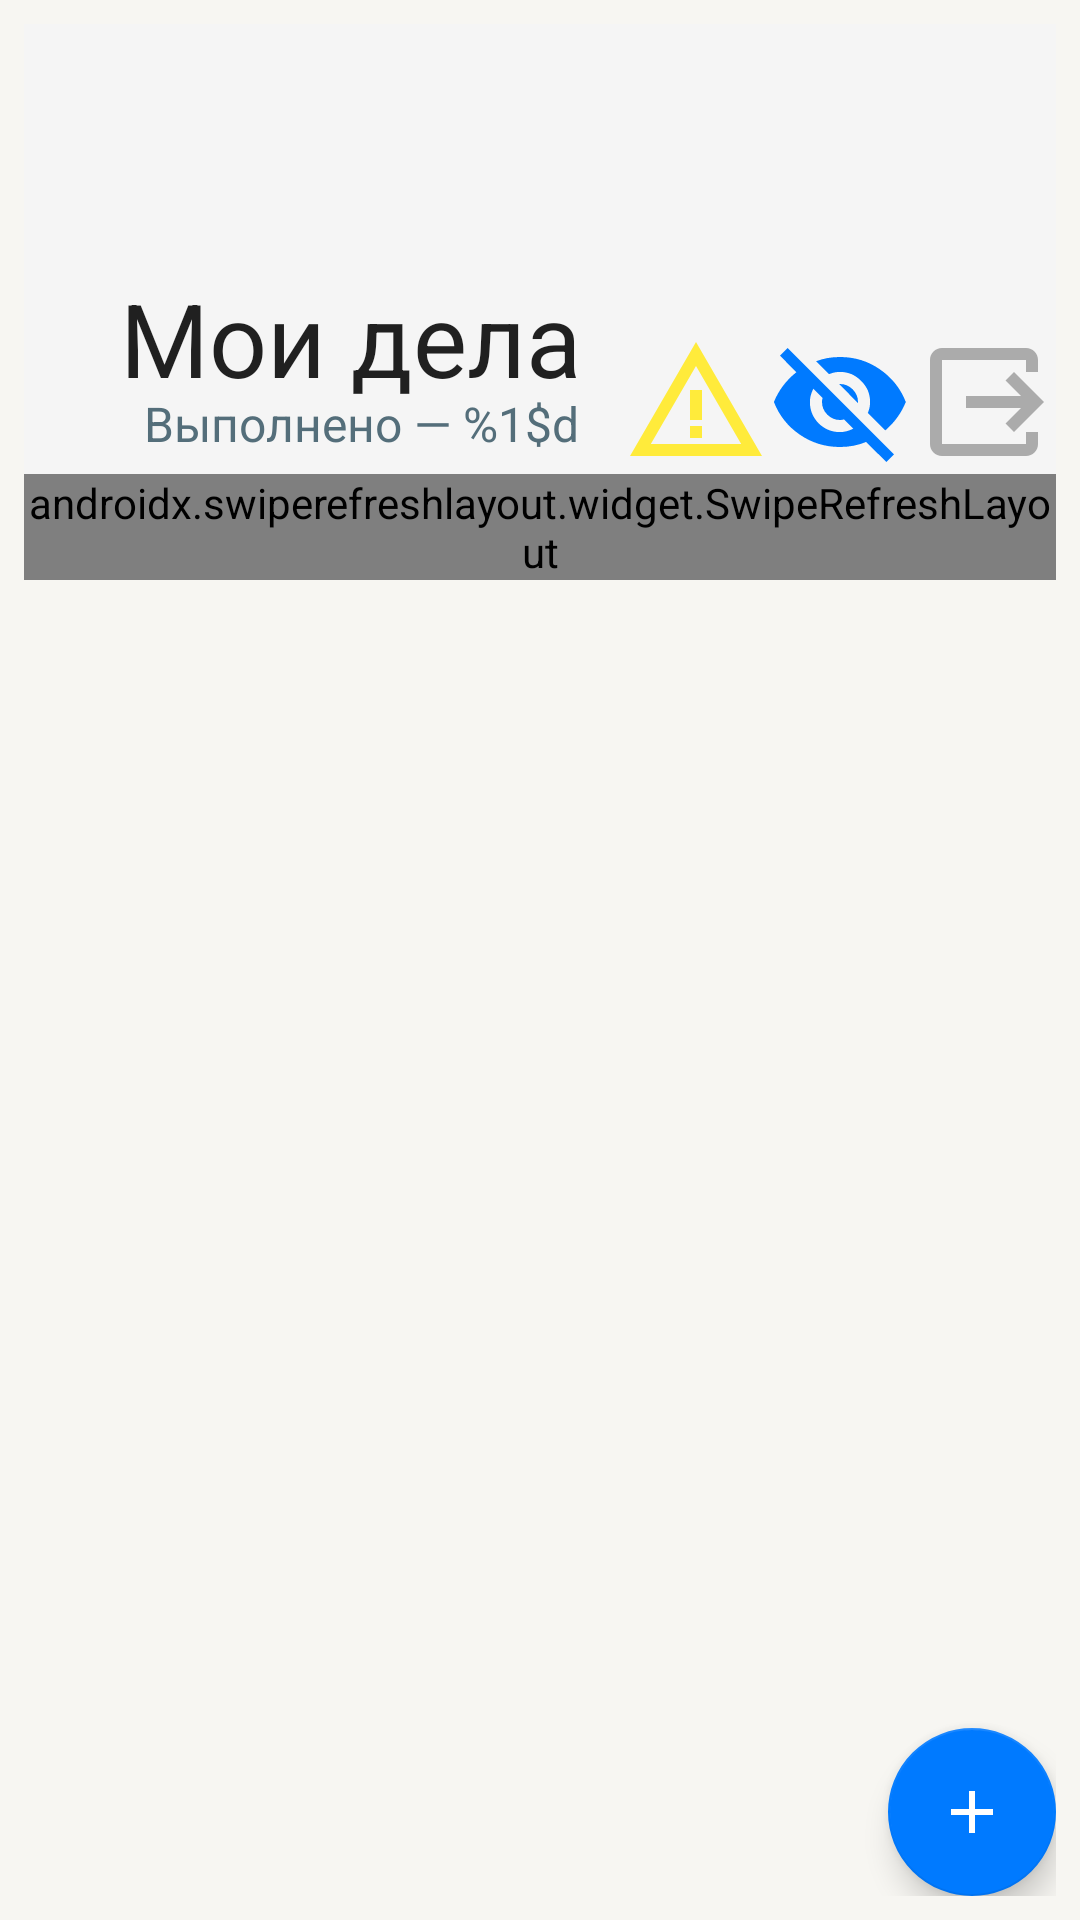

Where to tap for icons on this 1080 x 1920 app screen, as (x,y):
done visibility checkbox: (840,405)
warning amber: (696,399)
Выйти: (987,402)
Добавить задачу: (972,1812)
